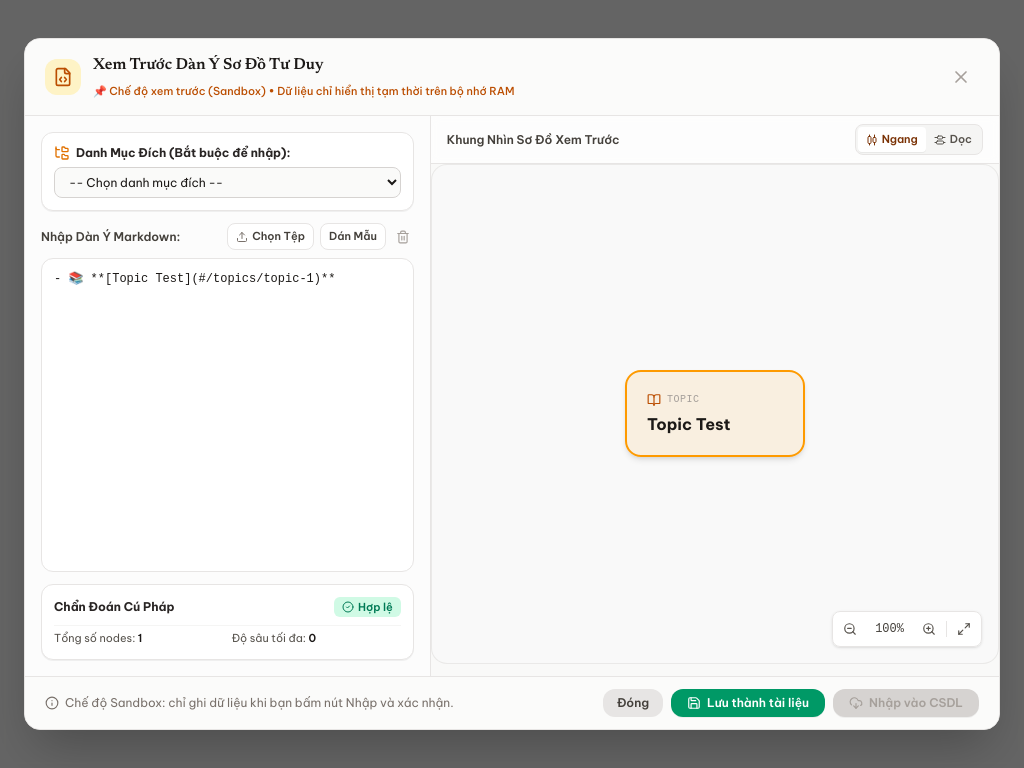
Test case: Phase I2: Mind Map Preview-Only Sandbox Modal › Scenario 8: Category selection is required to enable Import CTA
The width and height of the screenshot is (1024, 768).
Expected: the button with test id "btn-trigger-import" is disabled, [833,689,979,717]
Select category
Select "Phật Học" in the dropdown with test id "import-target-category-select" at (227, 183), box [54,167,401,198]
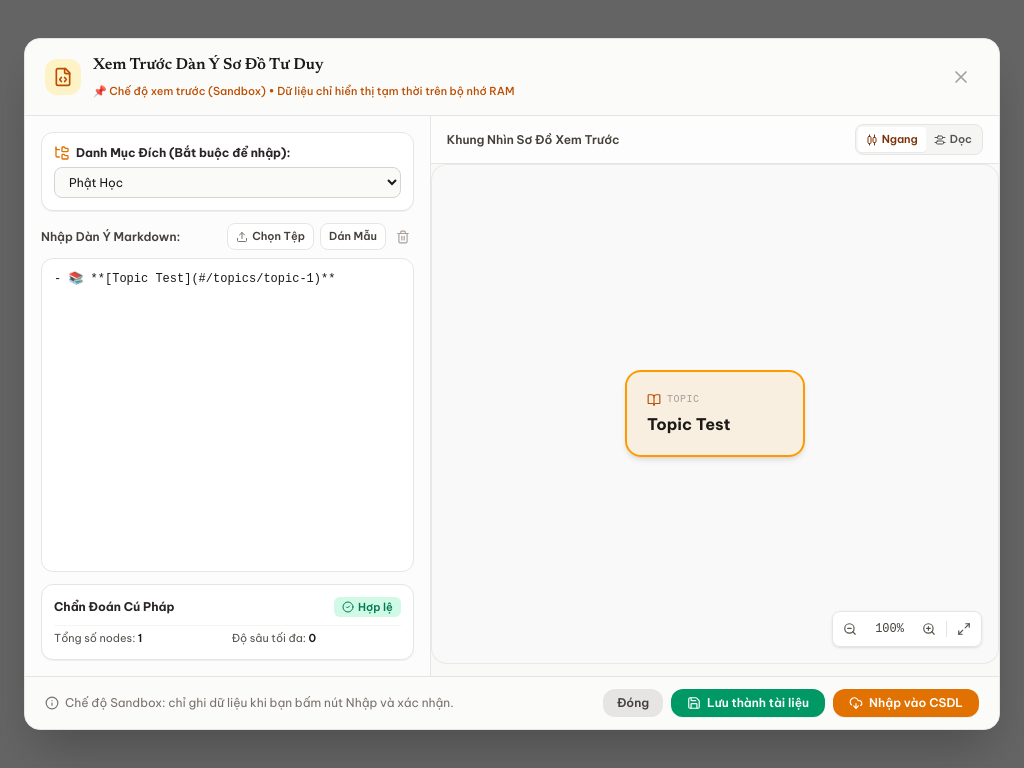
Result: the button with test id "btn-trigger-import" is enabled at [833,689,979,717]
